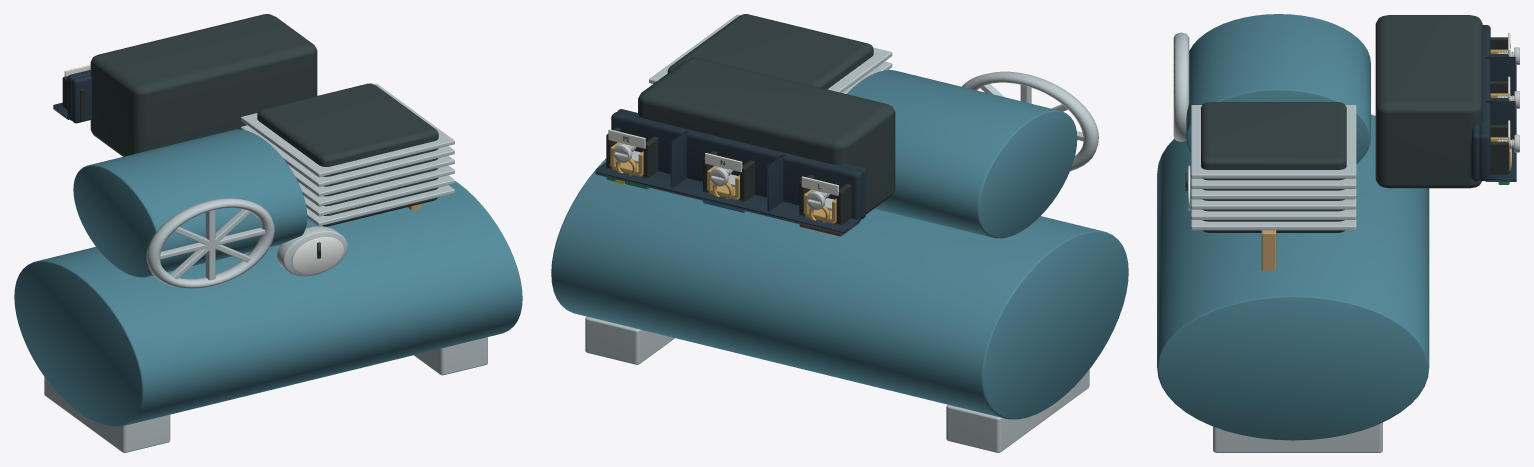
The model's file is motor_compressor.glb.
3 renders of one model, left to right at view 1: azimuth 30°, elevation 25°; view 2: azimuth 150°, elevation 25°; view 3: azimuth 270°, elevation 25°, orthographic. The views are drawn at different scales.
Visible parts, largest first — view 1: part:body · Cast motor blue, part:body · Machinery thermoplastic, part:body · Machined steel, motion:compressor-drive · Machined steel, part:mounting · Machined steel, Pressure dial, part:terminals · Original a463fd81; view 2: part:body · Cast motor blue, part:body · Machinery thermoplastic, part:terminals · Original a463fd81, part:mounting · Machined steel, motion:compressor-drive · Machined steel, part:body · Machined steel, detail:terminal-clamp:L · Detail moulded engineering polymer, detail:terminal-clamp:PE · Detail moulded engineering polyme, detail:terminal-clamp:N · Detail moulded engineering polymer, detail:terminal-clamp:PE · Detail machined brass; view 3: part:body · Cast motor blue, part:body · Machinery thermoplastic, part:body · Machined steel, part:terminals · Original a463fd81, part:mounting · Machined steel, motion:compressor-drive · Machined steel, detail:terminal-clamp:PE · Detail moulded engineering polyme, Pressure pipe.
Part boxes in pixels (left/top/right/bottom): part:body · Cast motor blue: left=14, top=129, right=522, bottom=426; part:body · Machinery thermoplastic: left=90, top=14, right=438, bottom=258; part:body · Machined steel: left=241, top=84, right=454, bottom=276; motion:compressor-drive · Machined steel: left=146, top=198, right=274, bottom=288; part:mounting · Machined steel: left=44, top=337, right=487, bottom=452; Pressure dial: left=291, top=237, right=343, bottom=273; part:terminals · Original a463fd81: left=53, top=70, right=91, bottom=123; part:body · Cast motor blue: left=551, top=70, right=1128, bottom=419; part:body · Machinery thermoplastic: left=638, top=14, right=895, bottom=214; part:terminals · Original a463fd81: left=595, top=109, right=865, bottom=234; part:mounting · Machined steel: left=585, top=316, right=1089, bottom=452; motion:compressor-drive · Machined steel: left=962, top=71, right=1098, bottom=171; part:body · Machined steel: left=649, top=14, right=892, bottom=93; detail:terminal-clamp:L · Detail moulded engineering polymer: left=799, top=174, right=851, bottom=225; detail:terminal-clamp:PE · Detail moulded engineering polyme: left=606, top=127, right=658, bottom=178; detail:terminal-clamp:N · Detail moulded engineering polymer: left=703, top=151, right=754, bottom=201; detail:terminal-clamp:PE · Detail machined brass: left=610, top=142, right=643, bottom=176; part:body · Cast motor blue: left=1157, top=14, right=1429, bottom=440; part:body · Machinery thermoplastic: left=1185, top=15, right=1482, bottom=232; part:body · Machined steel: left=1191, top=105, right=1356, bottom=230; part:terminals · Original a463fd81: left=1471, top=25, right=1516, bottom=181; part:mounting · Machined steel: left=1213, top=422, right=1382, bottom=452; motion:compressor-drive · Machined steel: left=1173, top=32, right=1189, bottom=141; detail:terminal-clamp:PE · Detail moulded engineering polyme: left=1470, top=124, right=1509, bottom=177; Pressure pipe: left=1261, top=230, right=1276, bottom=271.
Size of the model in its own units: 1.35 by 0.9641 by 1.05.
